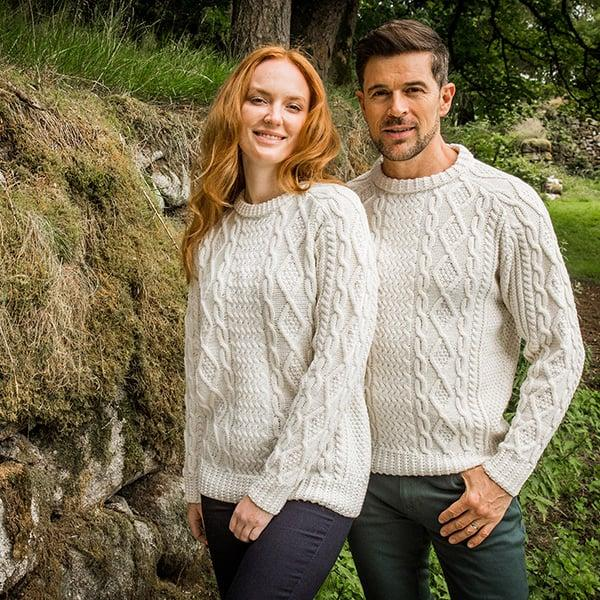sweater: (340, 139, 586, 486), (177, 176, 381, 516)
trousers: (347, 459, 531, 600), (198, 489, 356, 600)
